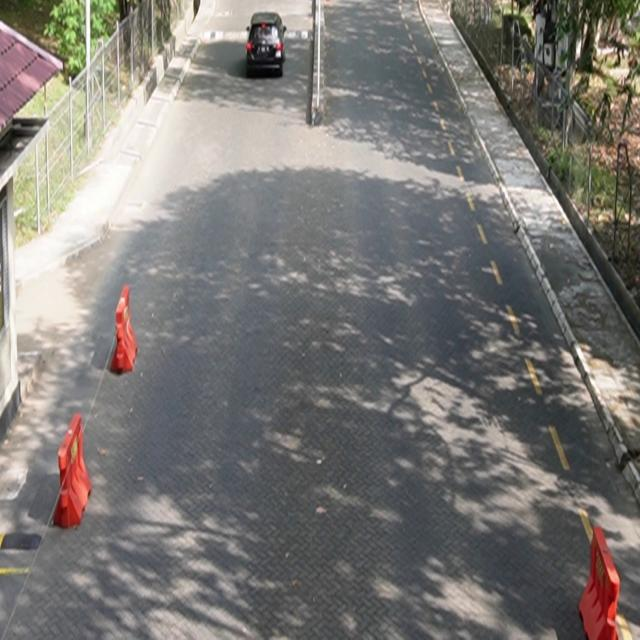car: (246, 12, 288, 78)
